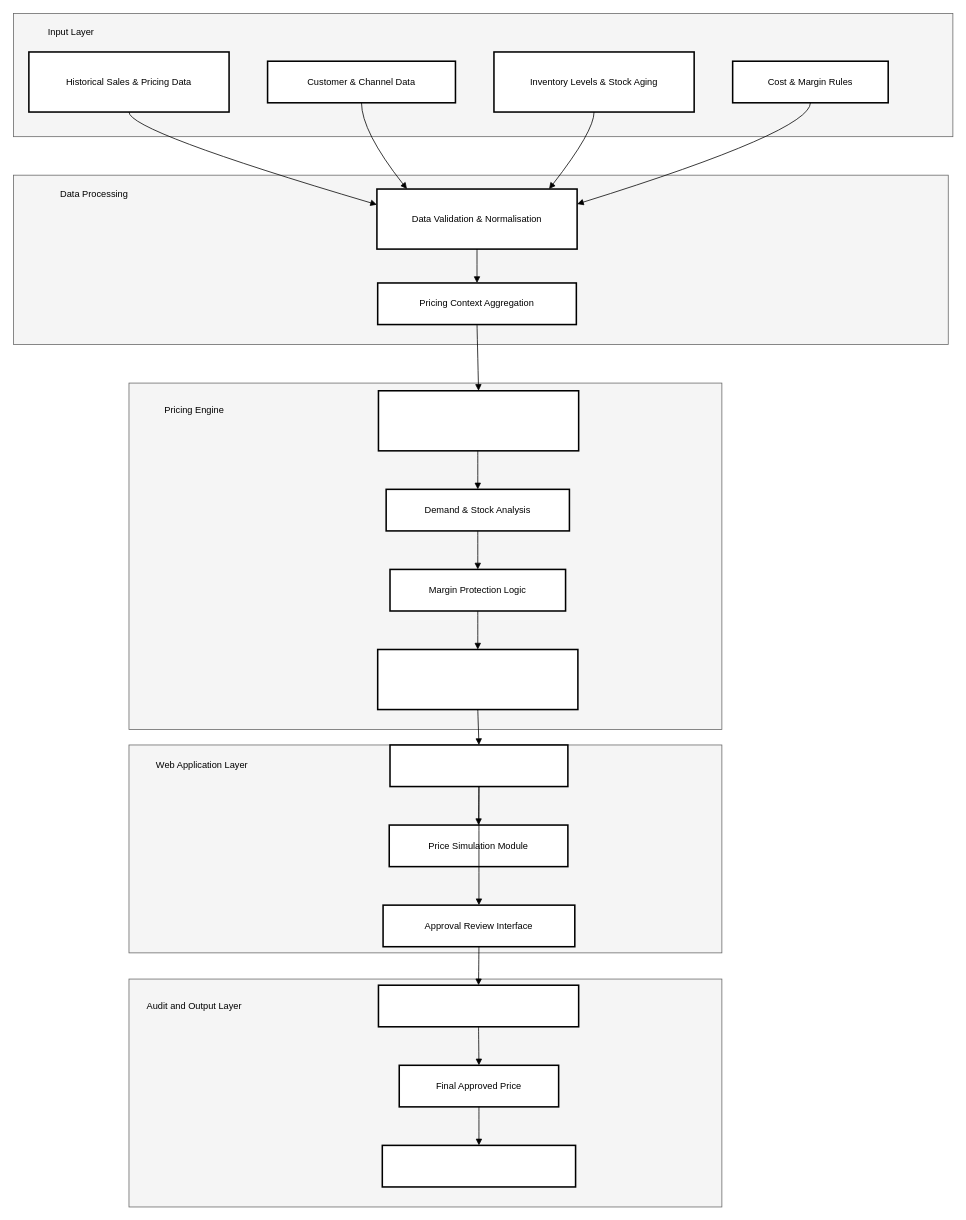
Some shapes in this 966 by 1220 pixel diagram are drawn without their labels. The shapes that lost their labels are listed below. From the top down, each one's box as (x1, y1, x2, y2) in pixels, then its label:
(377, 390, 579, 451): AI / Rules-Based Pricing Engine
(377, 648, 578, 710): Recommended Price Generator
(389, 744, 568, 787): Sales Manager Interface
(377, 984, 579, 1027): Pricing Decision & Audit Log
(381, 1144, 576, 1187): Export / Quotation Output
